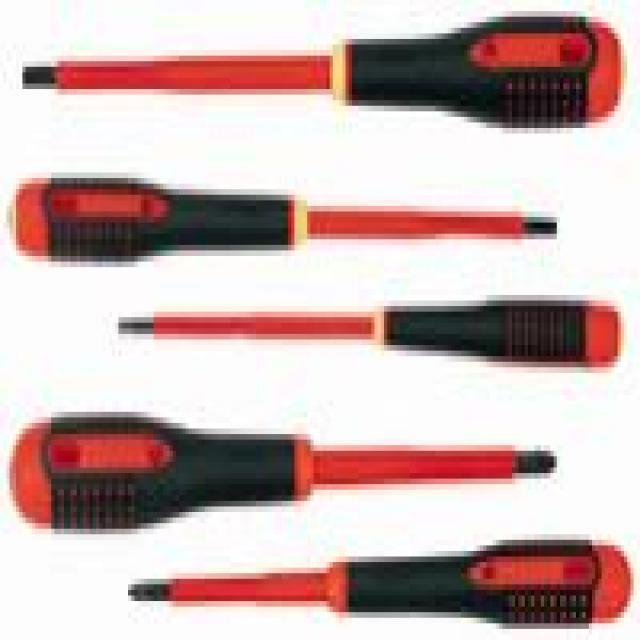screwdriver: (9, 0, 630, 139), (1, 394, 568, 544), (4, 144, 566, 288), (115, 523, 637, 640), (111, 279, 629, 386)
